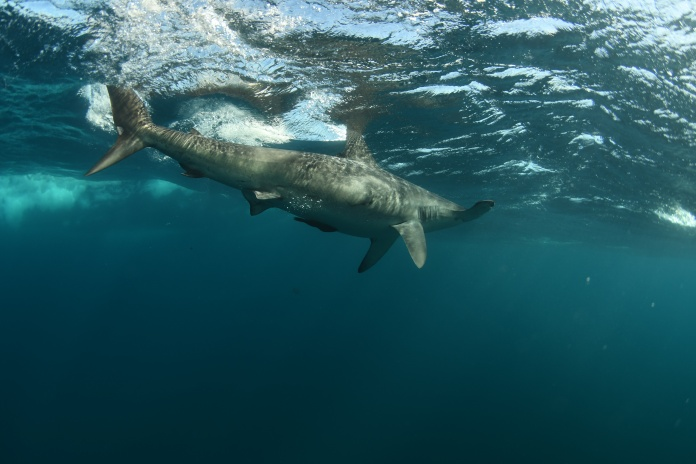Hammer: (54, 56, 504, 311)
